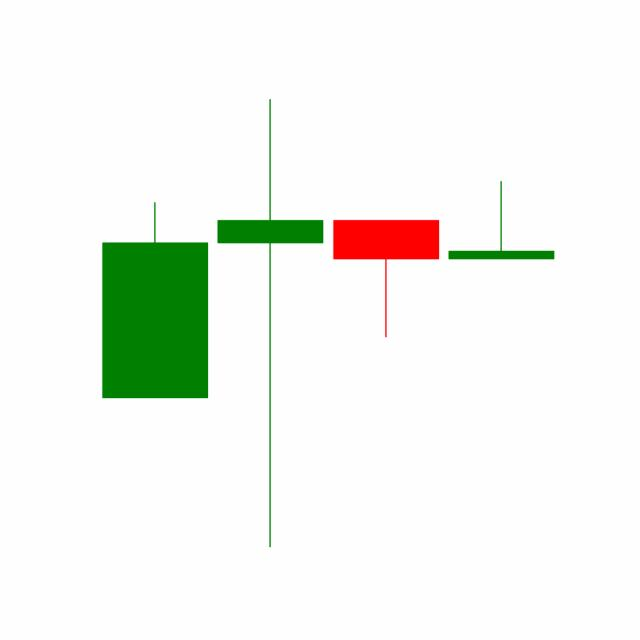Gravestone Doji: (443, 179, 559, 259)
